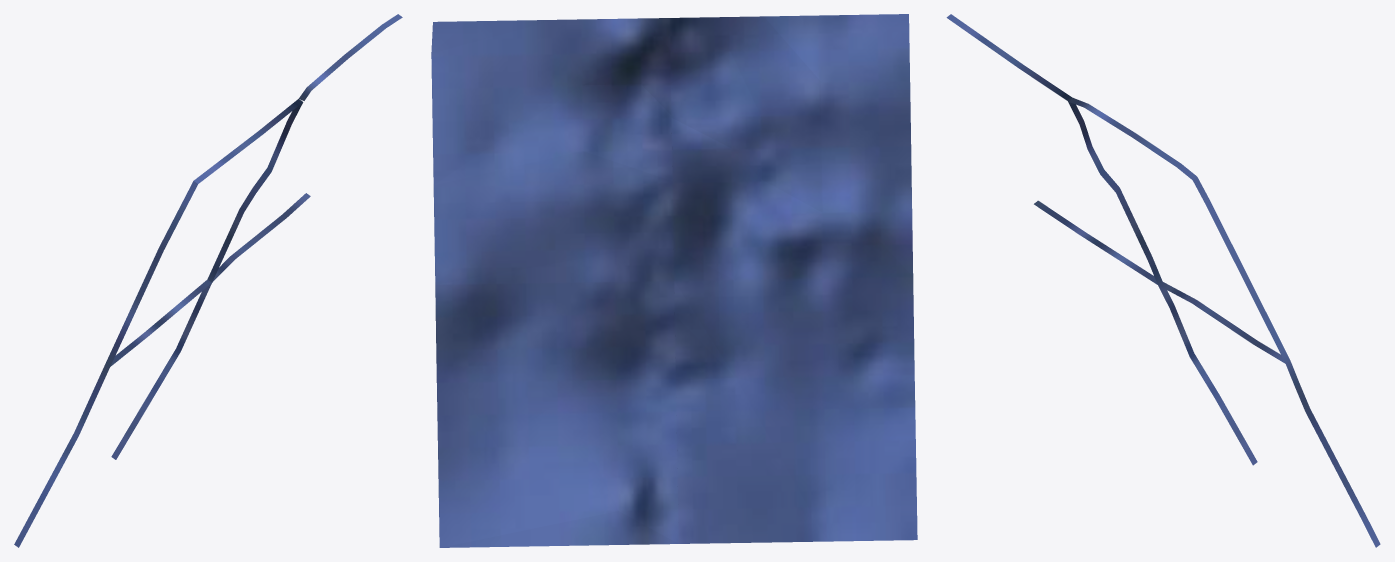
The picture shows the model from 3 angles, left to right: view 1: azimuth 30°, elevation 25°; view 2: azimuth 150°, elevation 25°; view 3: azimuth 270°, elevation 25°; orthographic projection. The views are drawn at different scales.
Size of the model in its own units: 19420 by 18017 by 16808.
1 material, 1 textured.
